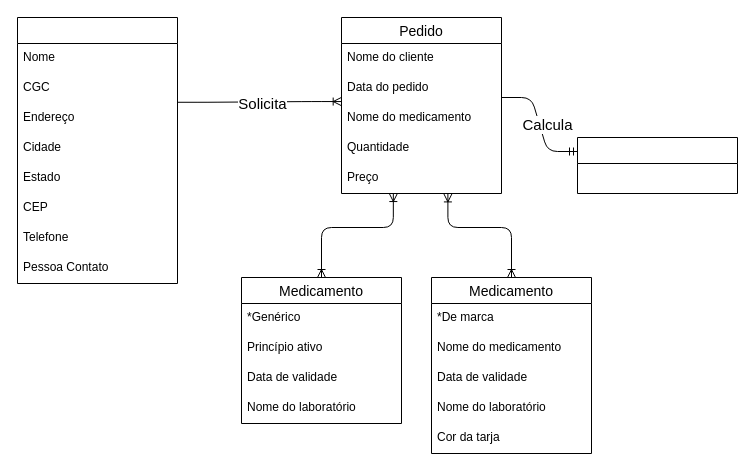
Some shapes in this 755 by 474 pixel diagram are drawn without their labels. Each missing label, with the box of its shape:
Cliente: (16, 16, 178, 284)
Valor do pedido: (576, 136, 738, 194)
